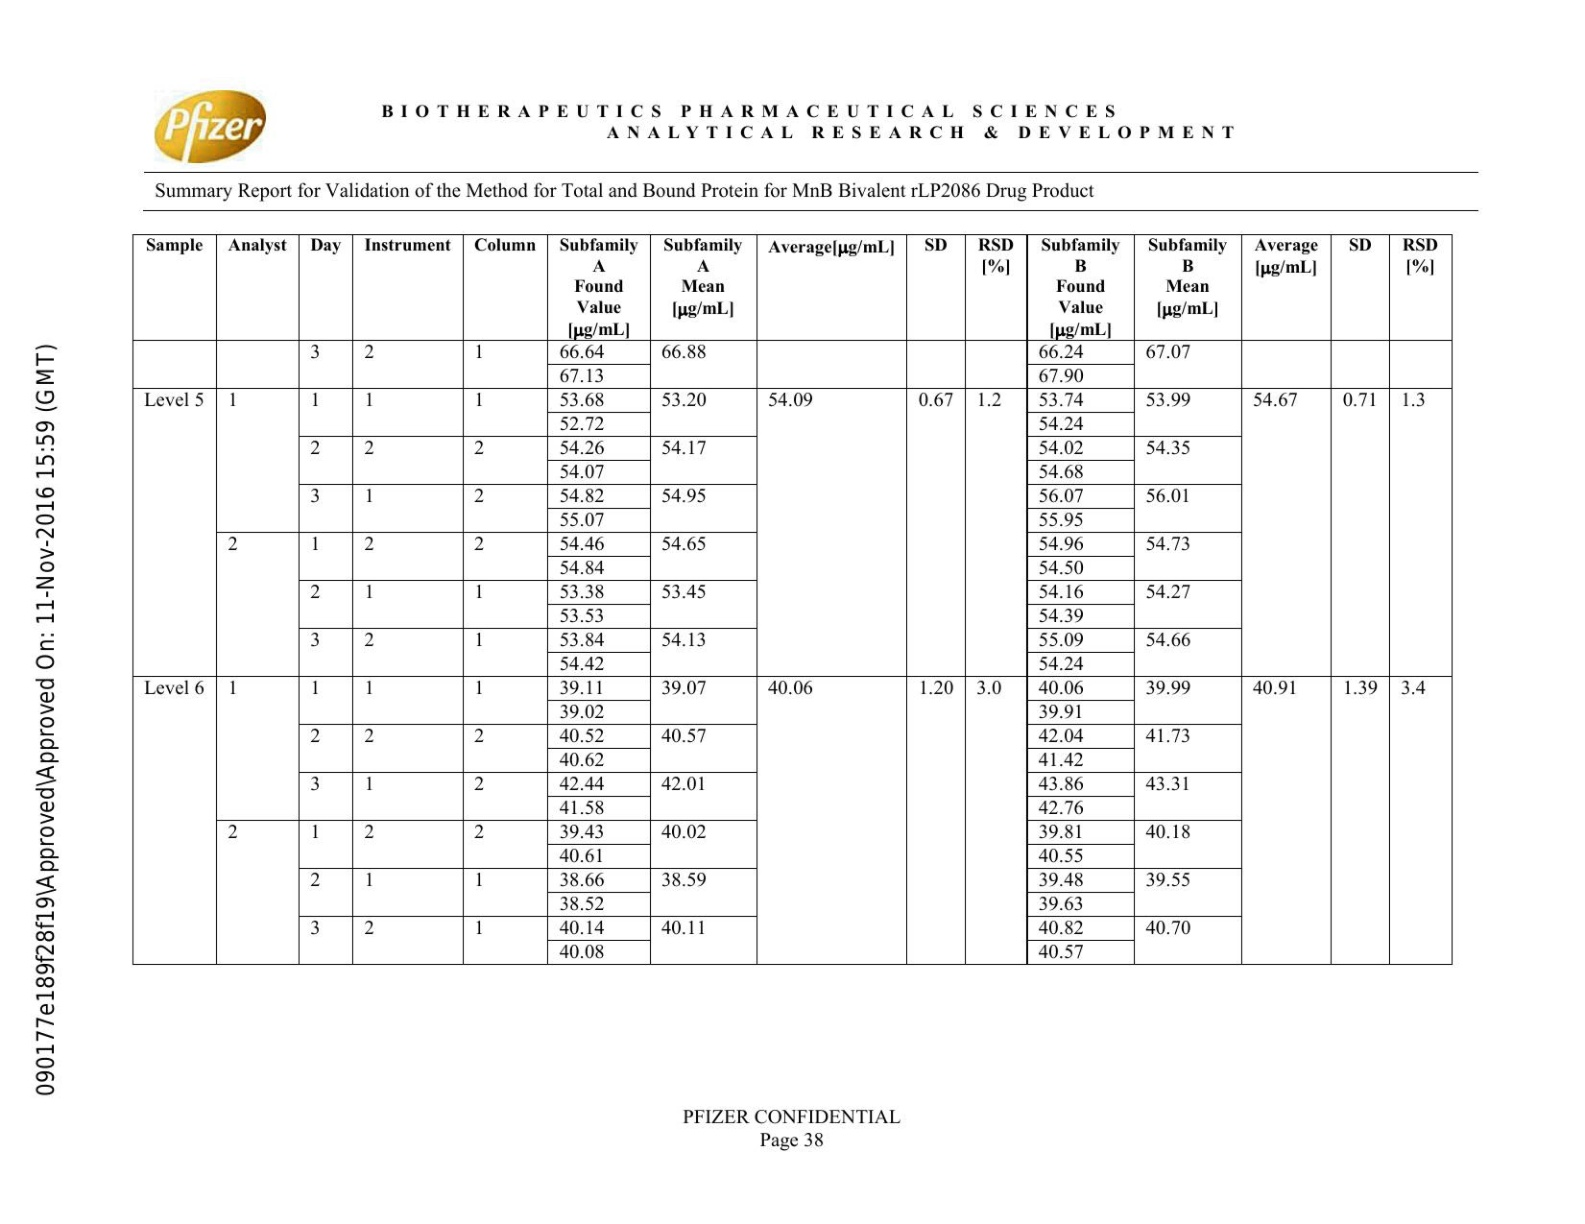merged_cells: (130, 231, 1455, 967)
